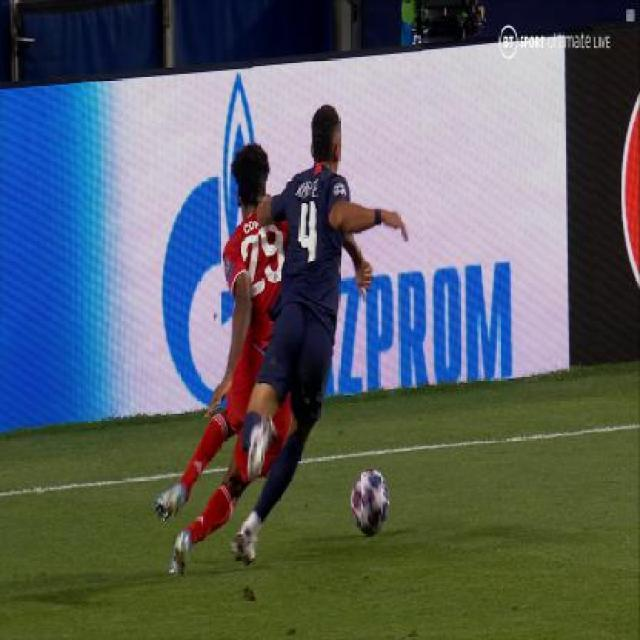ball: (349, 464, 394, 537)
player: (199, 92, 405, 566), (159, 141, 324, 572)
